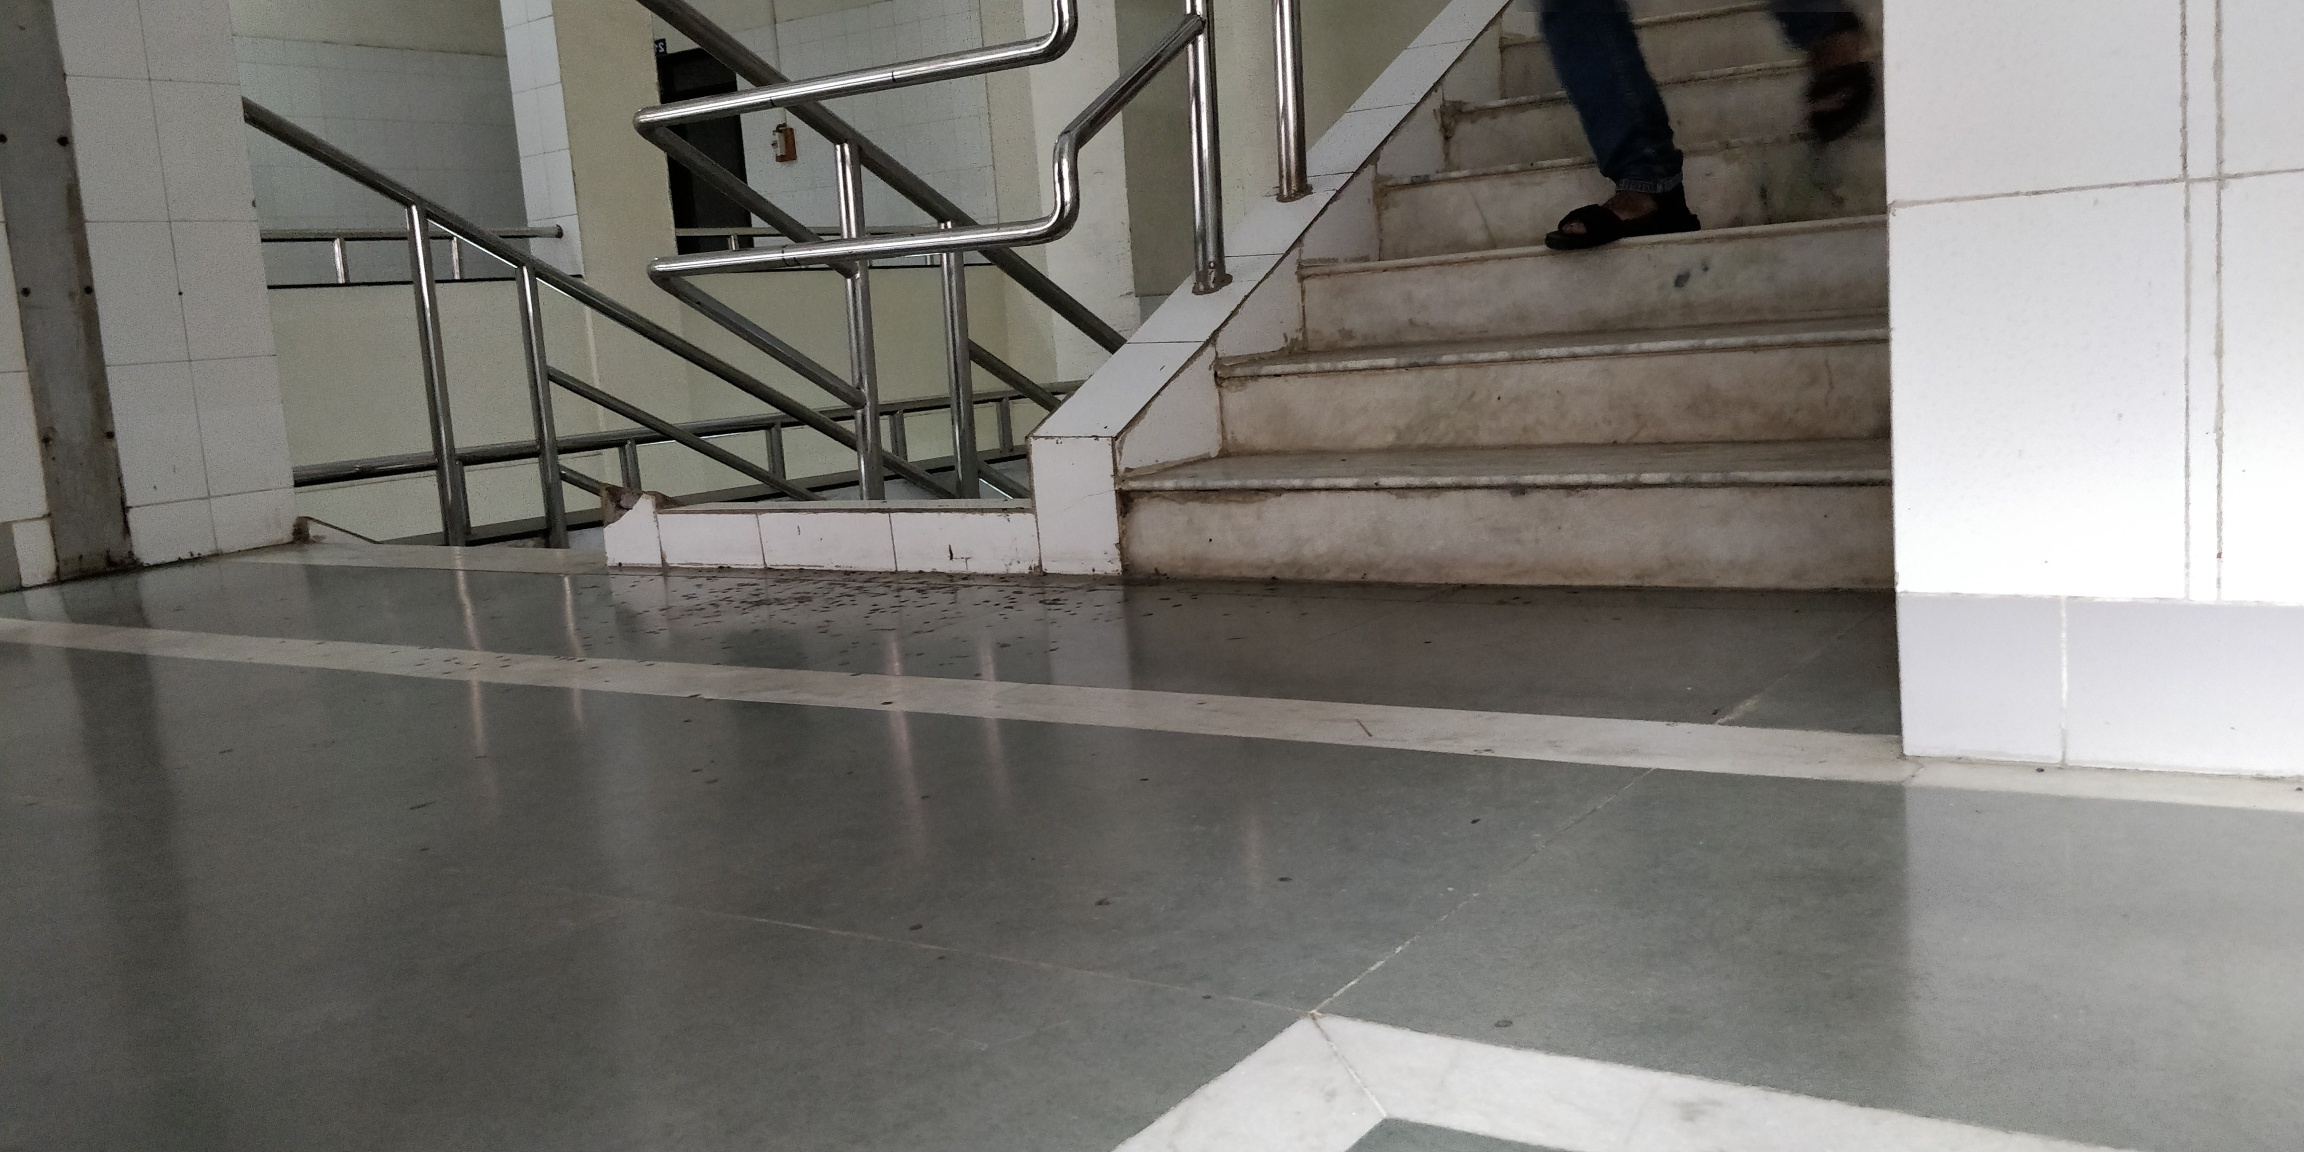stairs_up: (932, 6, 1893, 585)
